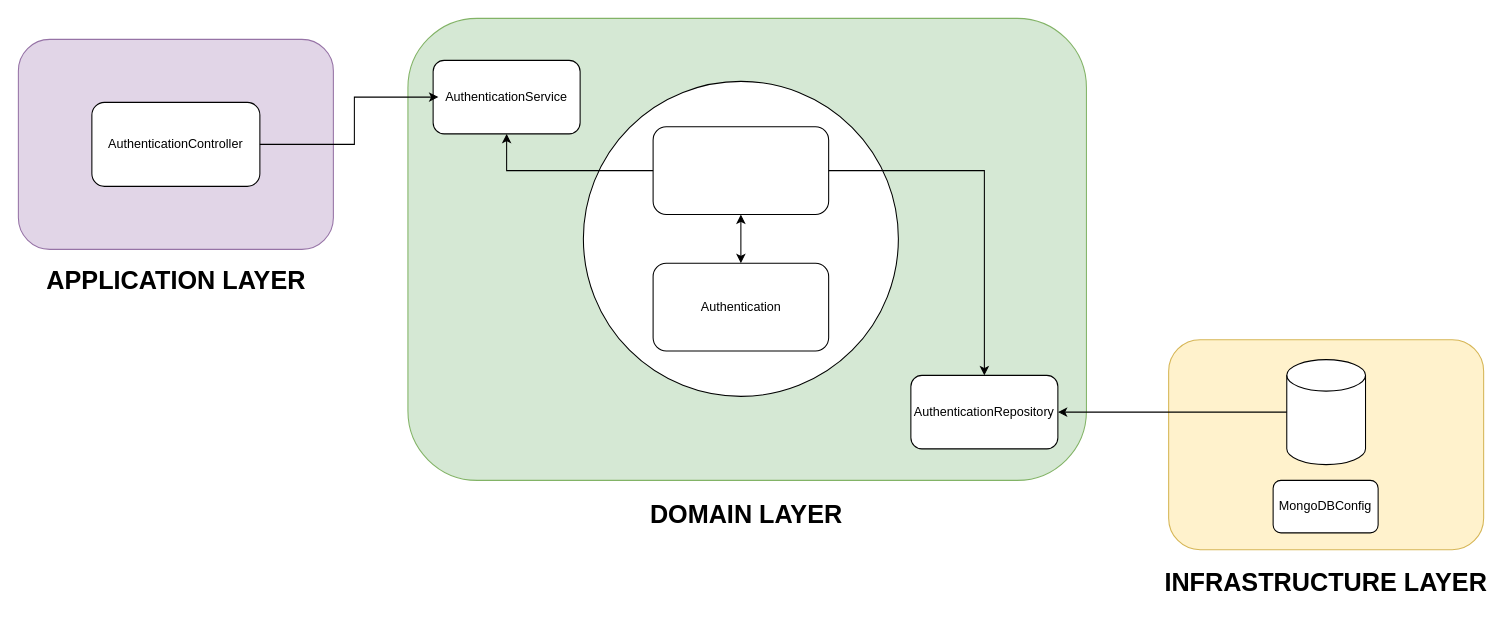
The diagram is 1507 pixels wide and 618 high, and some of its shapes have lost their labels. The shapes that lost their labels are listed below. From the top down, each one's box as (x1, y1, x2, y2) in pixels, then its label:
(652, 126, 829, 215): DomainAuthenticationService
(1286, 359, 1366, 465): MongoDB Repository
